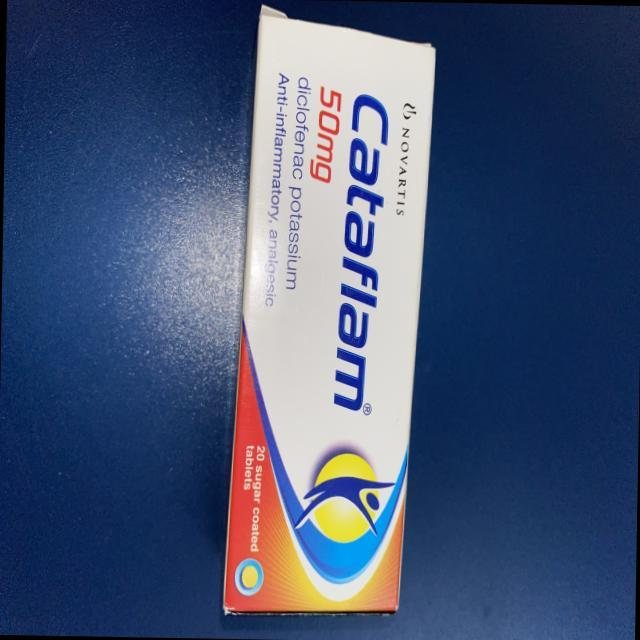Medicine Name: (325, 82, 399, 421)
